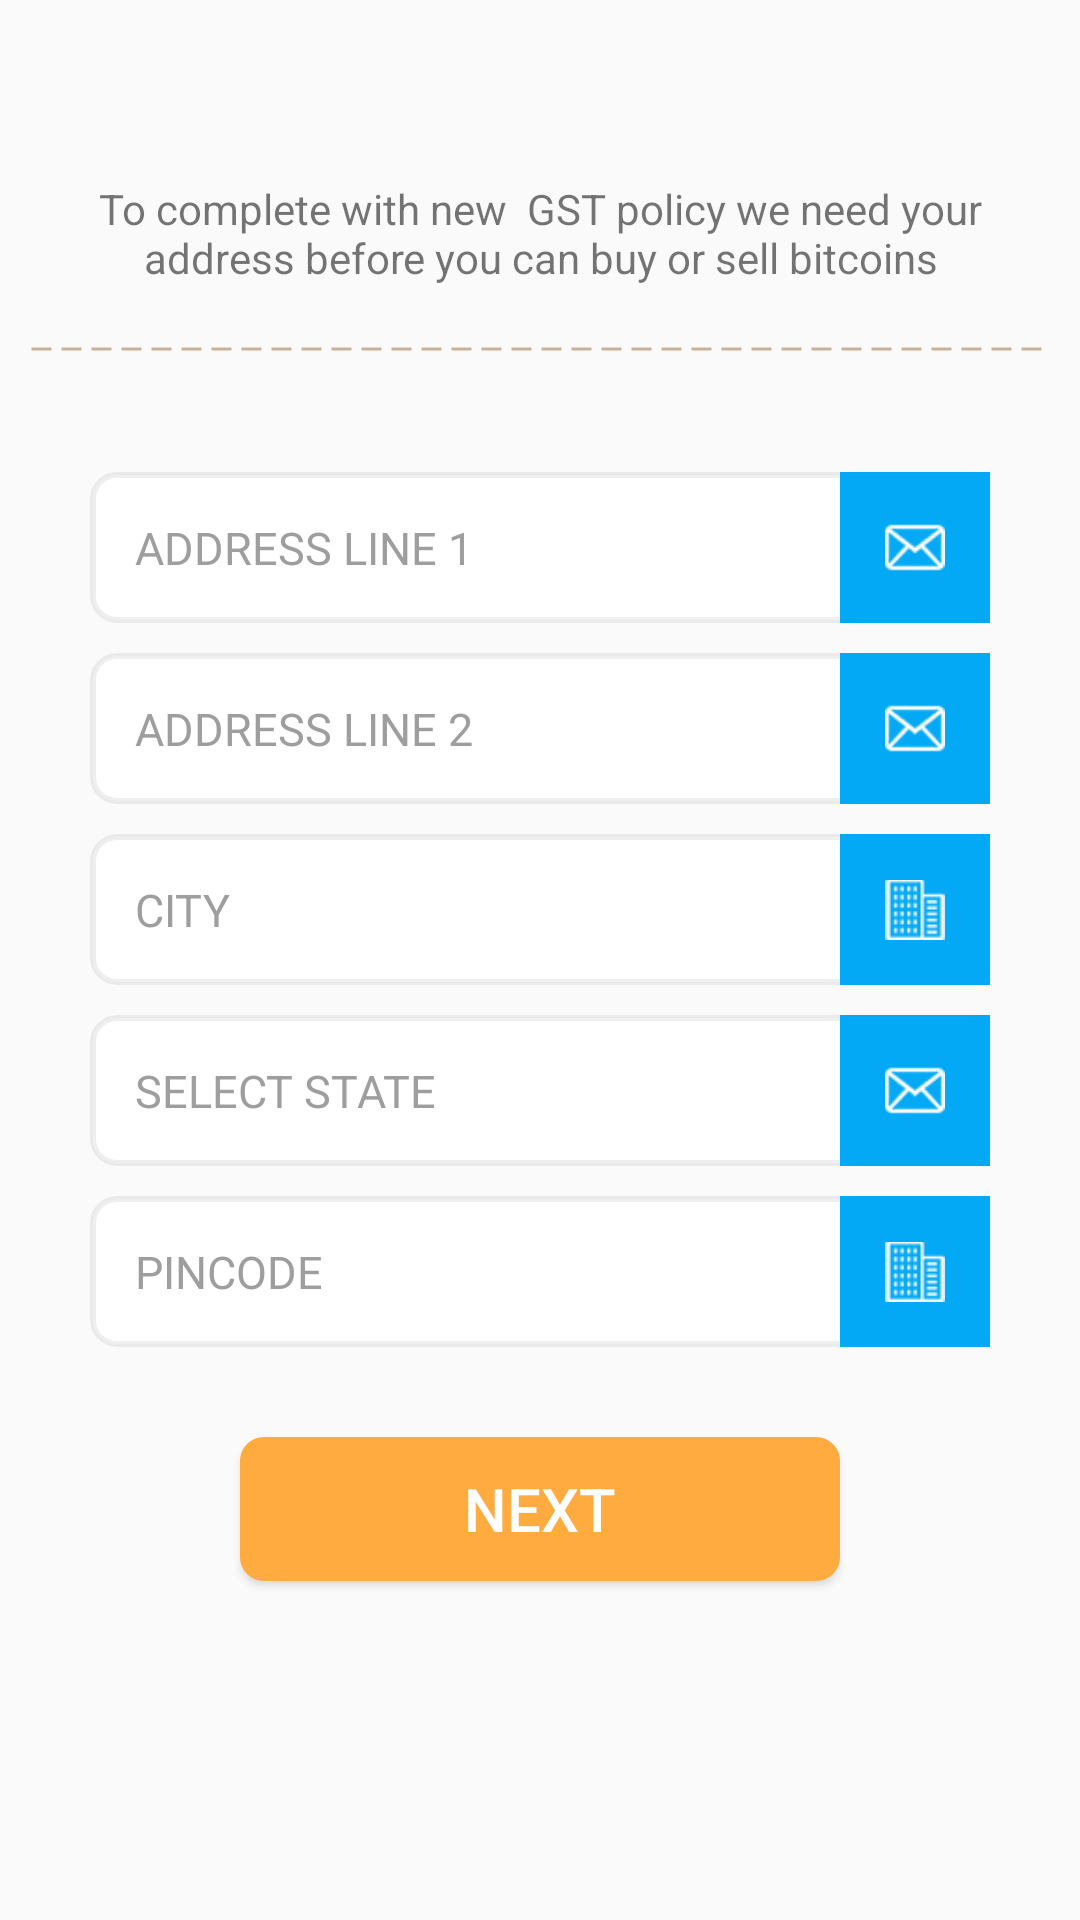

Icon click points for this 1080px×1920px phone screenshot, format point (x, y):
email: point (915, 547), point (915, 728), point (915, 1090)
